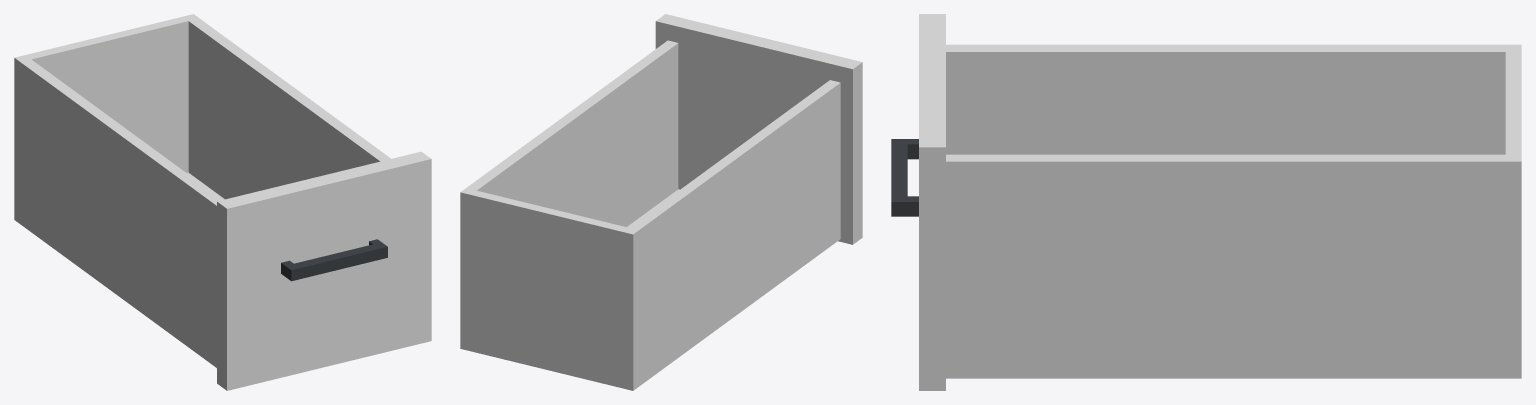
Rendered from Door1_C1_07.fbx.
3 views of the same model, side by side, from view 1: azimuth 30°, elevation 25°; view 2: azimuth 150°, elevation 25°; view 3: azimuth 270°, elevation 25° (orthographic). The views are drawn at different scales.
Parts seen in each view (by area): view 1: Door1_C1_07; view 2: Door1_C1_07; view 3: Door1_C1_07.
Boxes of the visible parts, box(x1,y1,x2,y2) form: Door1_C1_07: box(14, 14, 431, 390); Door1_C1_07: box(460, 14, 862, 390); Door1_C1_07: box(891, 14, 1521, 390).
Size of the model in its own units: 29 by 24.68 by 57.89.
